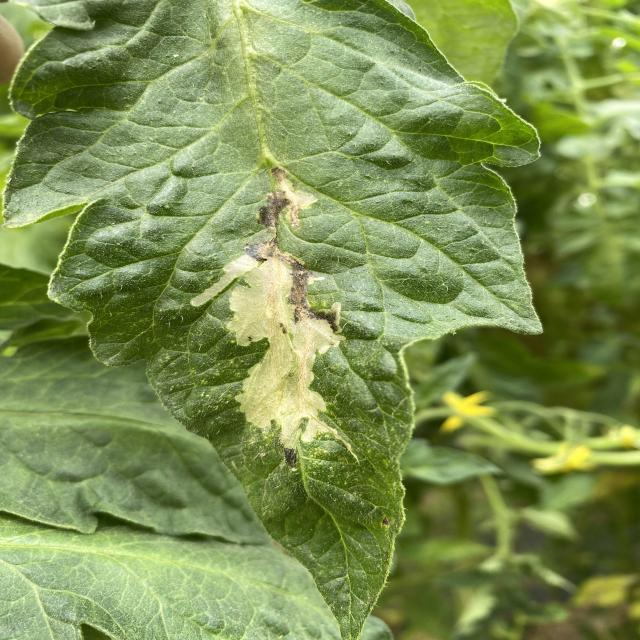Tuta absoluta: (164, 156, 376, 485)
